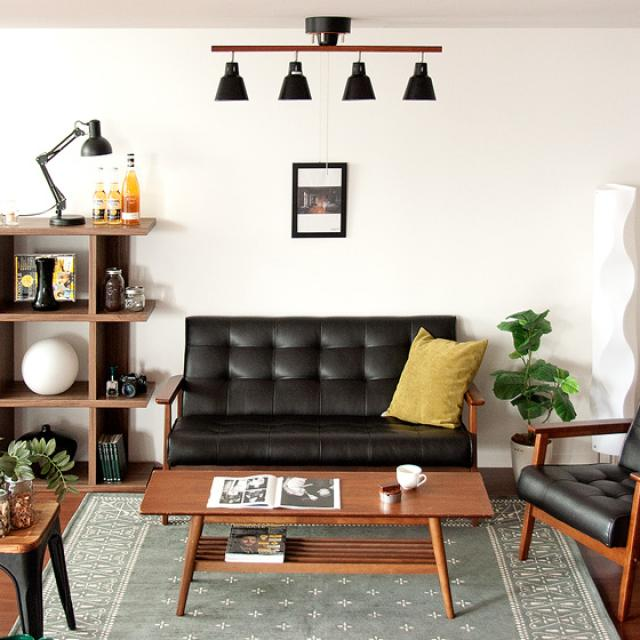vintage chair: (522, 390, 640, 620)
vintage desk: (141, 466, 495, 619)
vintage shelf: (4, 204, 153, 491)
vintage sofa: (157, 304, 481, 463)
